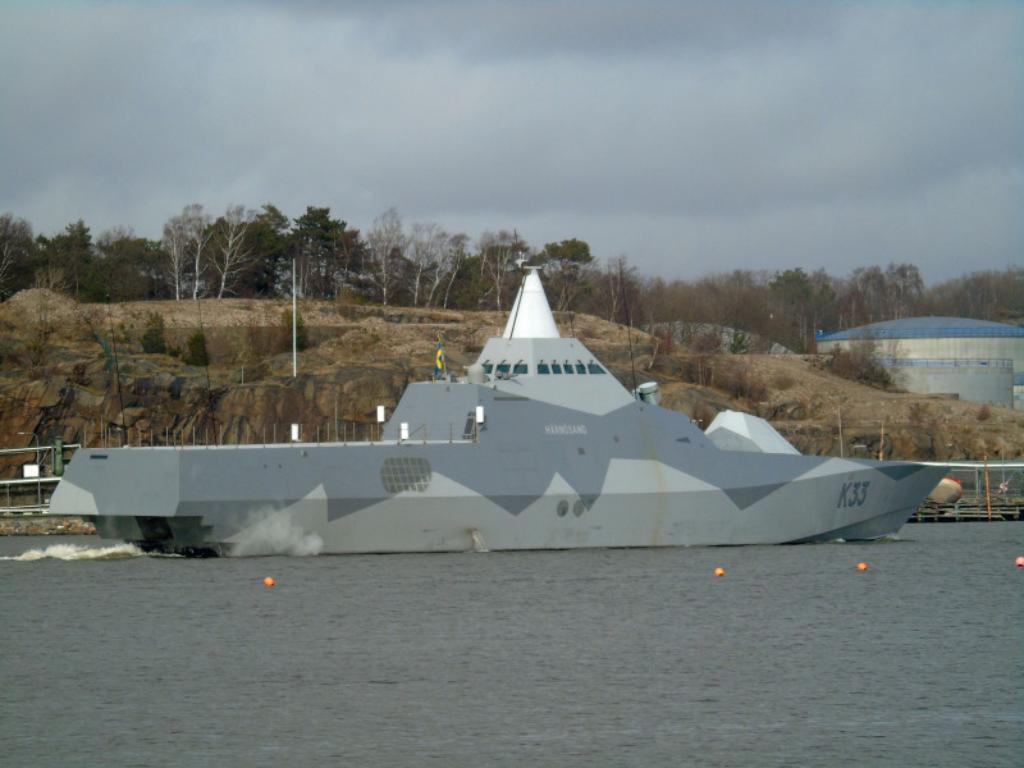Warship: (44, 259, 954, 557)
